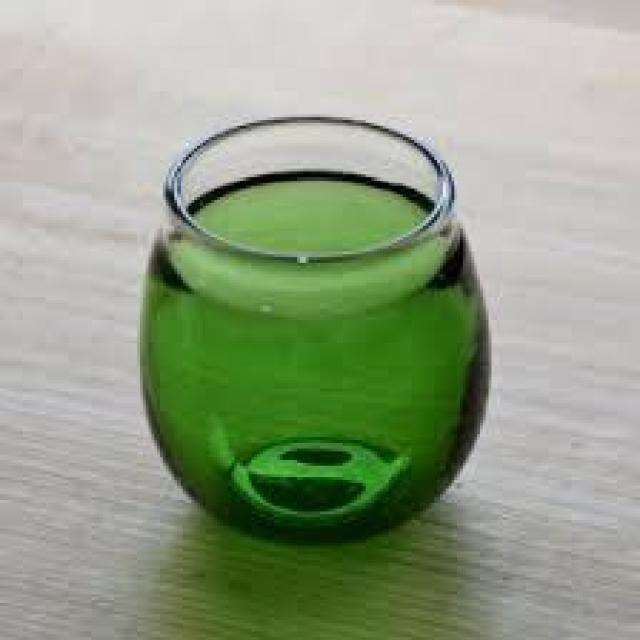Glass: (141, 115, 487, 550)
